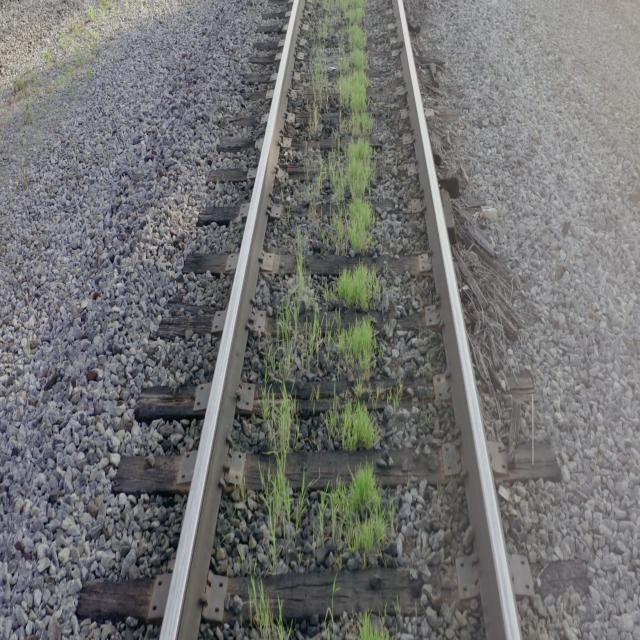Plant: (261, 249, 321, 569), (310, 0, 380, 251), (312, 462, 391, 569), (324, 318, 380, 451), (251, 578, 299, 640), (329, 264, 381, 316), (350, 613, 389, 640), (359, 611, 390, 640)
